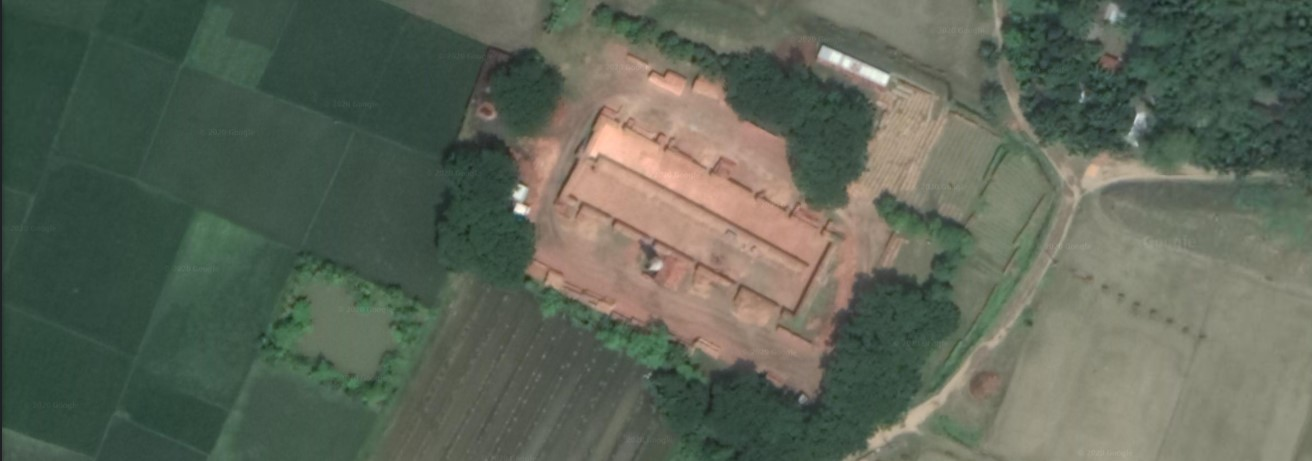kiln: (550, 157, 814, 314)
